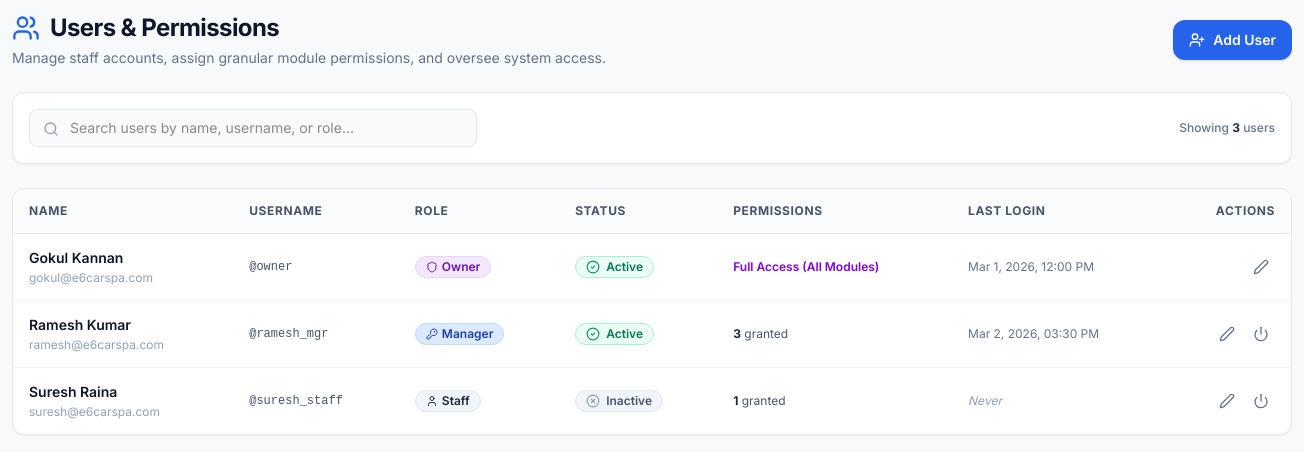
Test: UsersManagementPage Component (User Management, Roles & Permissions) › renders user directory with roles, permissions count, and search filter
Expected: the heading "Users & Permissions" is shown, [12,13,279,42]
Expected: the text "Gokul Kannan" is shown, [29,249,123,266]
Note: Verify search filter
Type "Ramesh" into the field with placeholder "Search users by name, username, or role..." at (253, 128), box [29,109,477,147]
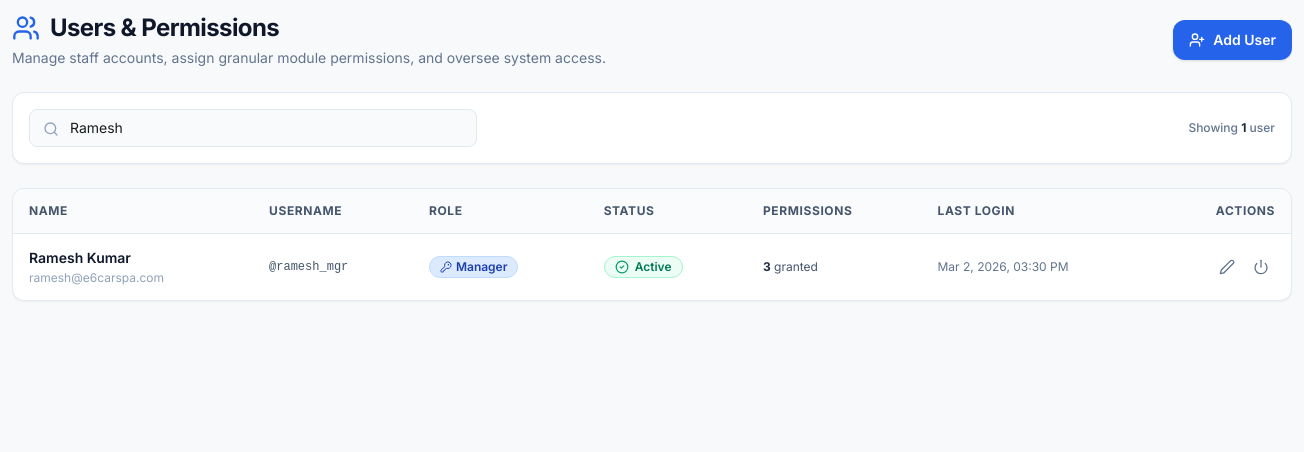
Expected: the text "Ramesh Kumar" is shown, [29,249,131,266]
Expected: the text "Suresh Raina" is gone
